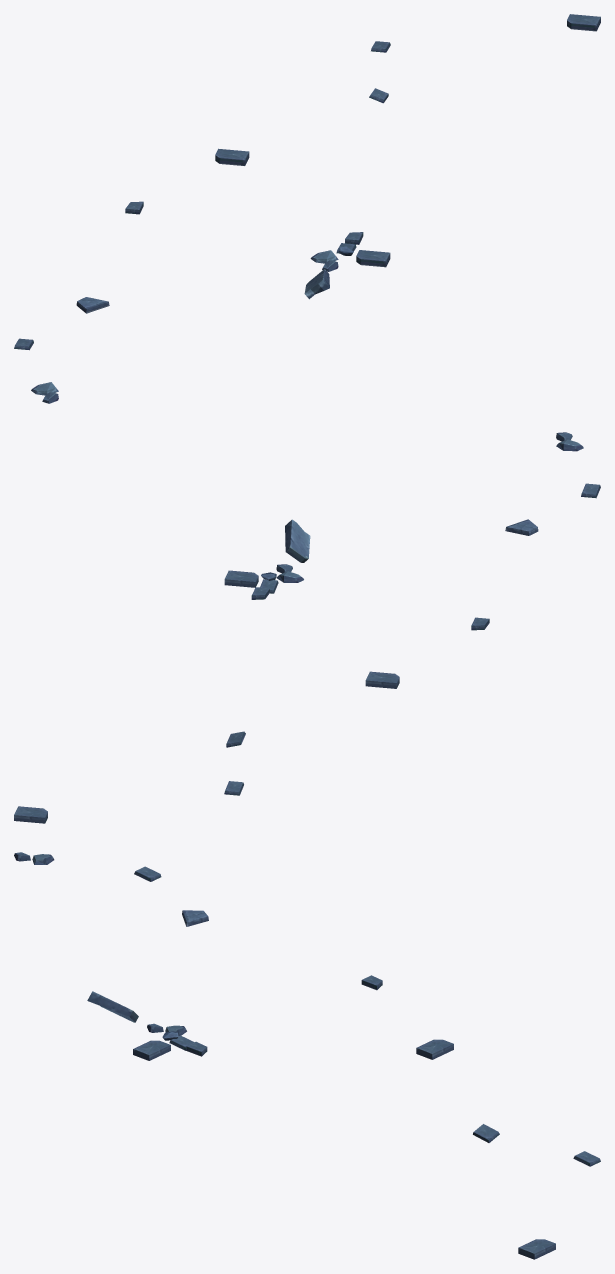
Rendered from Area14_19.fbx.
3 renders of one model, top to bottom at view 1: azimuth 30°, elevation 25°; view 2: azimuth 210°, elevation 25°; view 3: azimuth 270°, elevation 25°, orthographic.
Visible parts, largest first — view 1: Area14_19; view 2: Area14_19; view 3: Area14_19.
Part boxes in pixels (x1=…): Area14_19: x1=14, y1=14, x2=600, y2=403; Area14_19: x1=14, y1=432, x2=600, y2=823; Area14_19: x1=14, y1=852, x2=600, y2=1259.
Size of the model in its own units: 5883 by 186 by 3622.
Materials: 1 (1 with a texture image).
